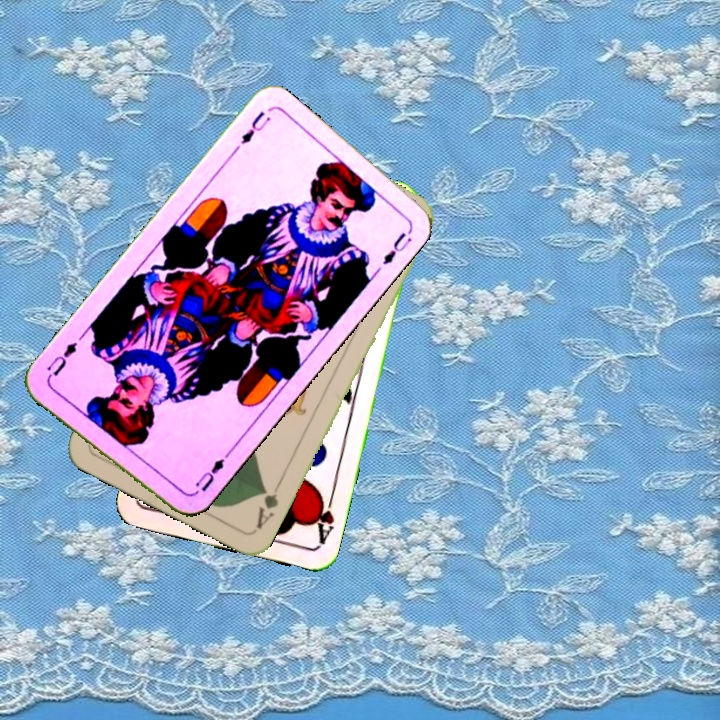EU: (191, 449, 232, 495), (236, 106, 274, 148)
GA: (252, 477, 284, 532)
HA: (309, 488, 337, 547)
